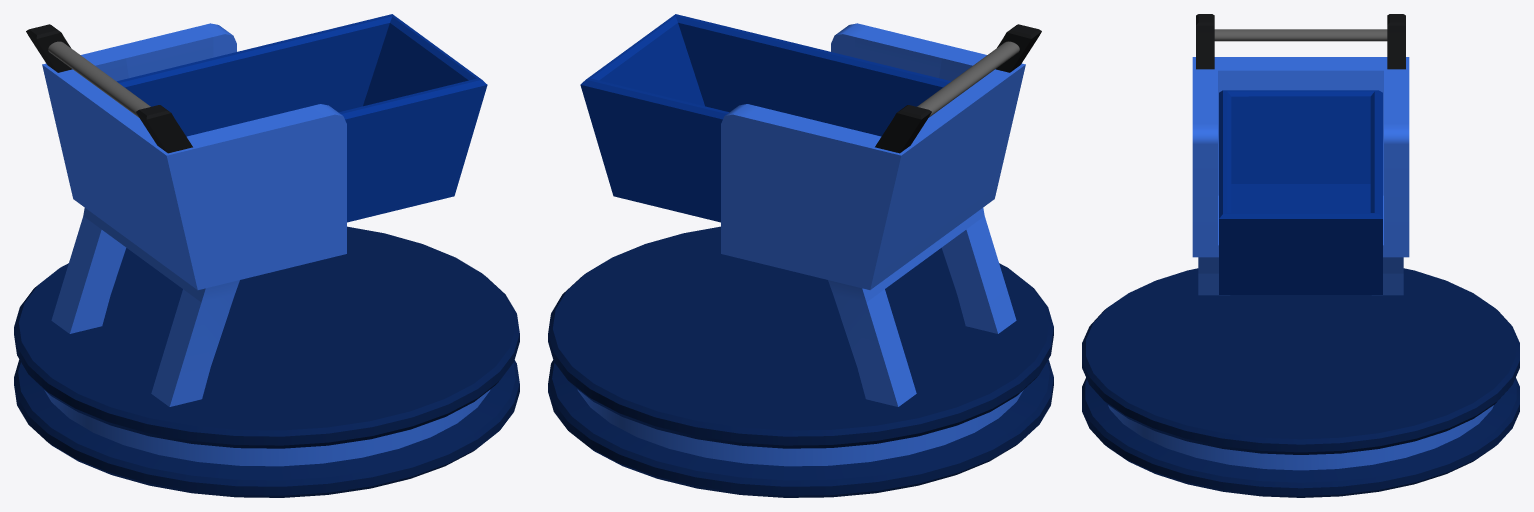
File: BIG CARRELLO BLU.fbx
3 views of the same model, side by side, from view 1: azimuth 30°, elevation 25°; view 2: azimuth 150°, elevation 25°; view 3: azimuth 270°, elevation 25° (orthographic). The views are drawn at different scales.
Visible parts, largest first — view 1: polySurface1, polySurface3, pCube1; view 2: polySurface1, polySurface3, pCube1; view 3: polySurface1, pCube1, polySurface3.
Part boxes in pixels (left/top/right/bottom): polySurface1: left=14, top=226, right=519, bottom=497; polySurface3: left=26, top=23, right=346, bottom=406; pCube1: left=117, top=14, right=487, bottom=222; polySurface1: left=548, top=226, right=1053, bottom=497; polySurface3: left=721, top=23, right=1041, bottom=406; pCube1: left=580, top=14, right=950, bottom=222; polySurface1: left=1082, top=268, right=1519, bottom=497; pCube1: left=1219, top=90, right=1382, bottom=294; polySurface3: left=1192, top=14, right=1409, bottom=295.
Size of the model in its own units: 1148 by 912 by 1143.
Materials: 1 (1 with a texture image).
